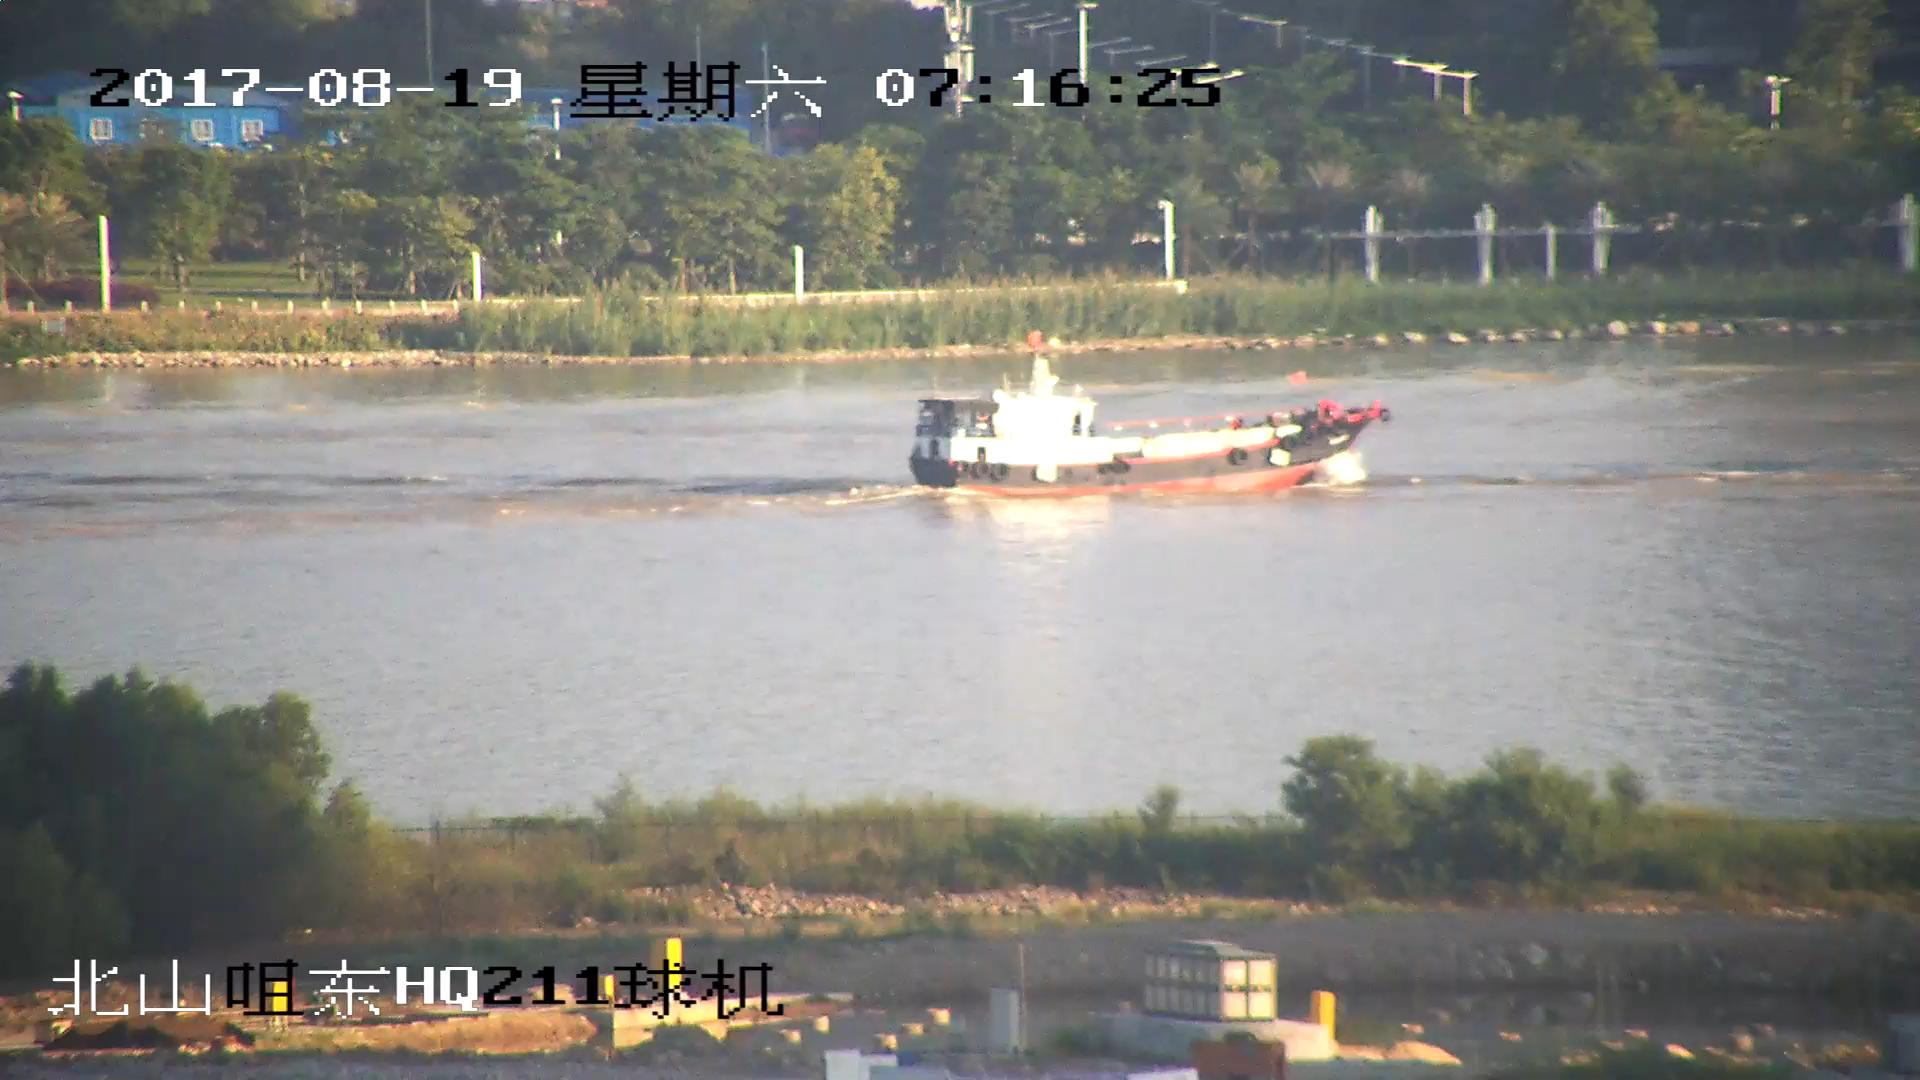fishing boat: (920, 338, 1388, 497)
